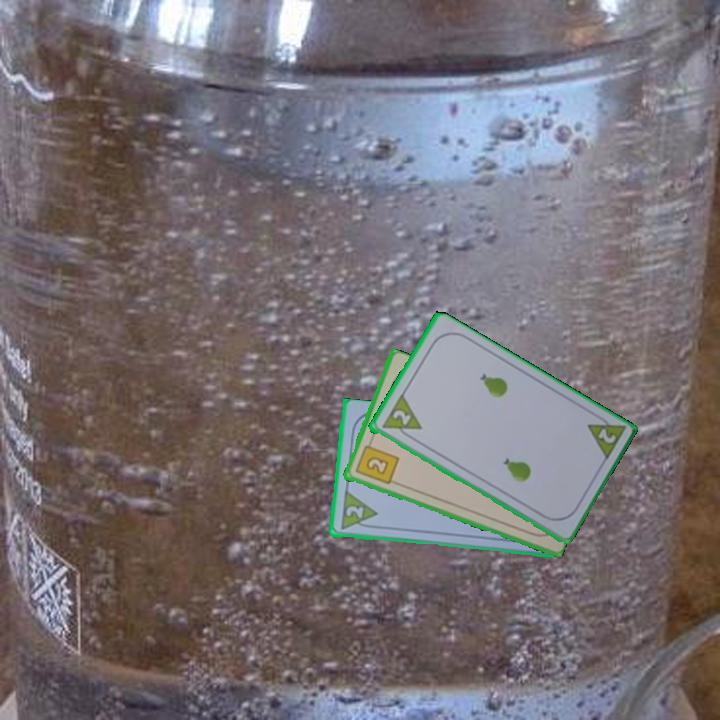2b: (352, 437, 401, 487)
2p: (337, 489, 379, 533), (388, 406, 414, 428), (594, 425, 619, 447)
